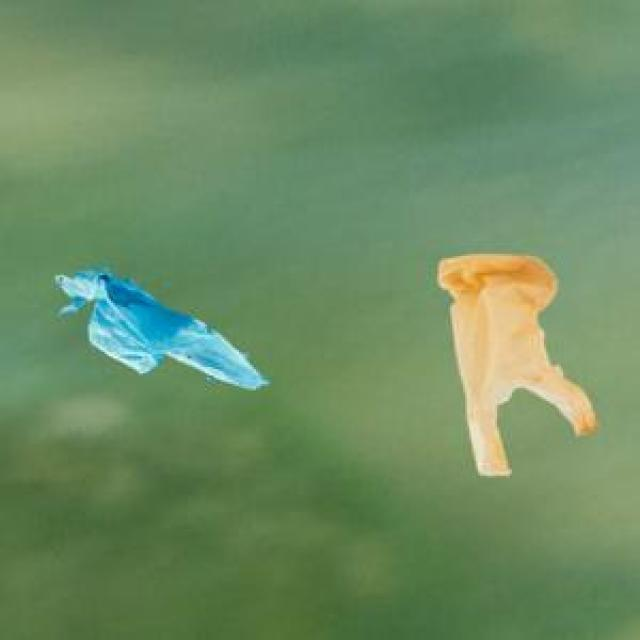waste: (438, 254, 596, 476), (55, 270, 269, 389)
